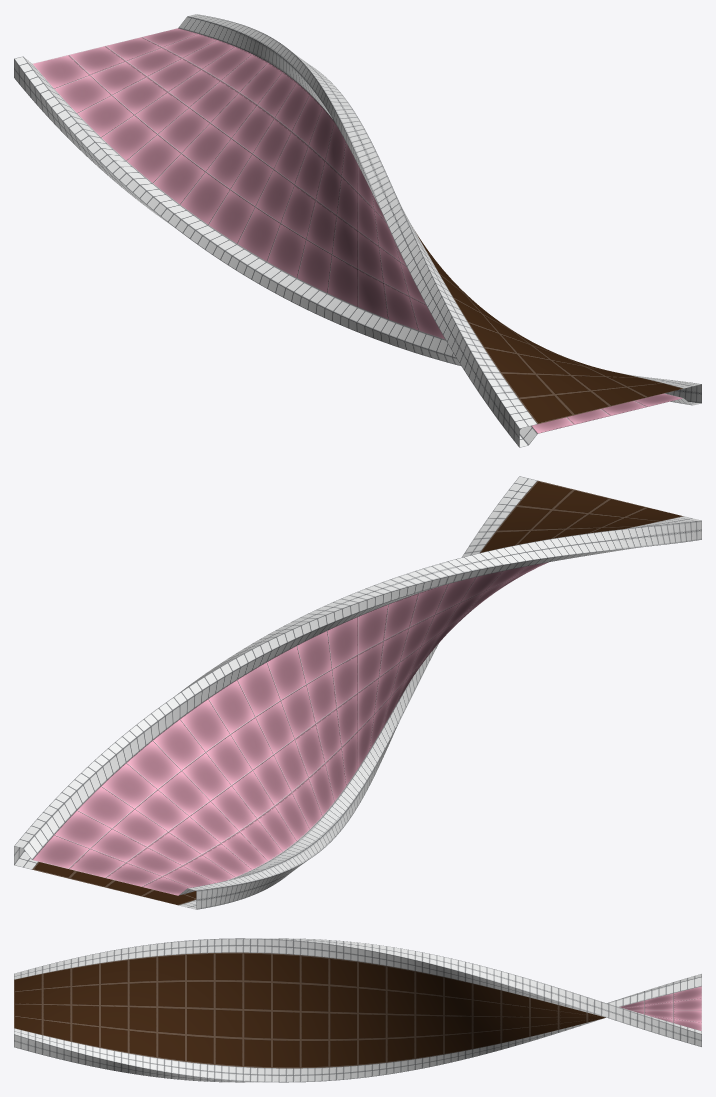
The model's file is GravitationalismTwist.obj.
The picture shows the model from 3 angles, top to bottom: view 1: azimuth 30°, elevation 25°; view 2: azimuth 150°, elevation 25°; view 3: azimuth 270°, elevation 25°; orthographic projection. The views are drawn at different scales.
Visible parts, largest first — view 1: GravitationalismTwistTemplate.001; view 2: GravitationalismTwistTemplate.001; view 3: GravitationalismTwistTemplate.001.
Boxes of the visible parts, x1,y1,x2,y2 form: GravitationalismTwistTemplate.001: [14, 14, 701, 447]; GravitationalismTwistTemplate.001: [14, 476, 701, 909]; GravitationalismTwistTemplate.001: [14, 938, 701, 1082].
Bounding box in the file's own units: 10.05 × 10.05 × 48.
